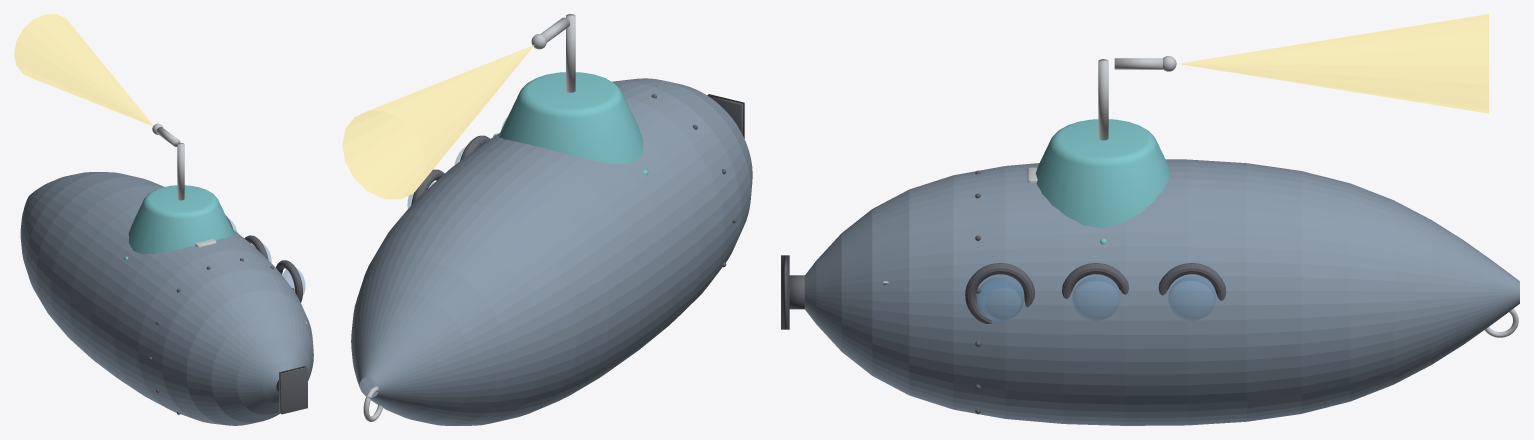
File: Submarine 2.glb
3 renders of one model, left to right at view 1: azimuth 30°, elevation 25°; view 2: azimuth 150°, elevation 25°; view 3: azimuth 270°, elevation 25°, orthographic. The views are drawn at different scales.
Parts seen in each view (by area): view 1: Sub2_Hull, Sub2_LightBeam, Sub2_Dome_Sail, Sub2_Prop_Blade_1, Sub2_Periscope_Vertical, Sub2_Porthole_Rim_1, Sub2_Prop_Blade_2; view 2: Sub2_Hull, Sub2_LightBeam, Sub2_Dome_Sail, Sub2_Periscope_Vertical, Sub2_Prop_Blade_1; view 3: Sub2_Hull, Sub2_LightBeam, Sub2_Dome_Sail, Sub2_Porthole_Glass_1, Sub2_Porthole_Glass_3, Sub2_Porthole_Glass_2, Sub2_Porthole_Rim_1, Sub2_Porthole_Rim_3, Sub2_Porthole_Rim_2, Sub2_Periscope_Vertical.
Boxes of the visible parts, box(x1,y1,x2,y2) form: Sub2_Hull: box(20, 172, 313, 425); Sub2_LightBeam: box(14, 14, 153, 125); Sub2_Dome_Sail: box(128, 185, 233, 254); Sub2_Prop_Blade_1: box(279, 366, 307, 414); Sub2_Periscope_Vertical: box(177, 143, 184, 200); Sub2_Porthole_Rim_1: box(276, 260, 302, 302); Sub2_Prop_Blade_2: box(279, 368, 307, 413); Sub2_Hull: box(351, 78, 752, 425); Sub2_LightBeam: box(342, 45, 534, 199); Sub2_Dome_Sail: box(499, 72, 643, 164); Sub2_Periscope_Vertical: box(566, 14, 575, 92); Sub2_Prop_Blade_1: box(707, 94, 744, 138); Sub2_Hull: box(804, 159, 1519, 425); Sub2_LightBeam: box(1177, 14, 1488, 113); Sub2_Dome_Sail: box(1036, 119, 1170, 227); Sub2_Porthole_Glass_1: box(976, 277, 1023, 320); Sub2_Porthole_Glass_3: box(1168, 277, 1215, 320); Sub2_Porthole_Glass_2: box(1072, 277, 1119, 320); Sub2_Porthole_Rim_1: box(965, 263, 1034, 323); Sub2_Porthole_Rim_3: box(1158, 263, 1226, 300); Sub2_Porthole_Rim_2: box(1062, 263, 1129, 299); Sub2_Periscope_Vertical: box(1098, 59, 1108, 140).
Bounding box in the file's own units: 4.79 × 7.69 × 13.03.
